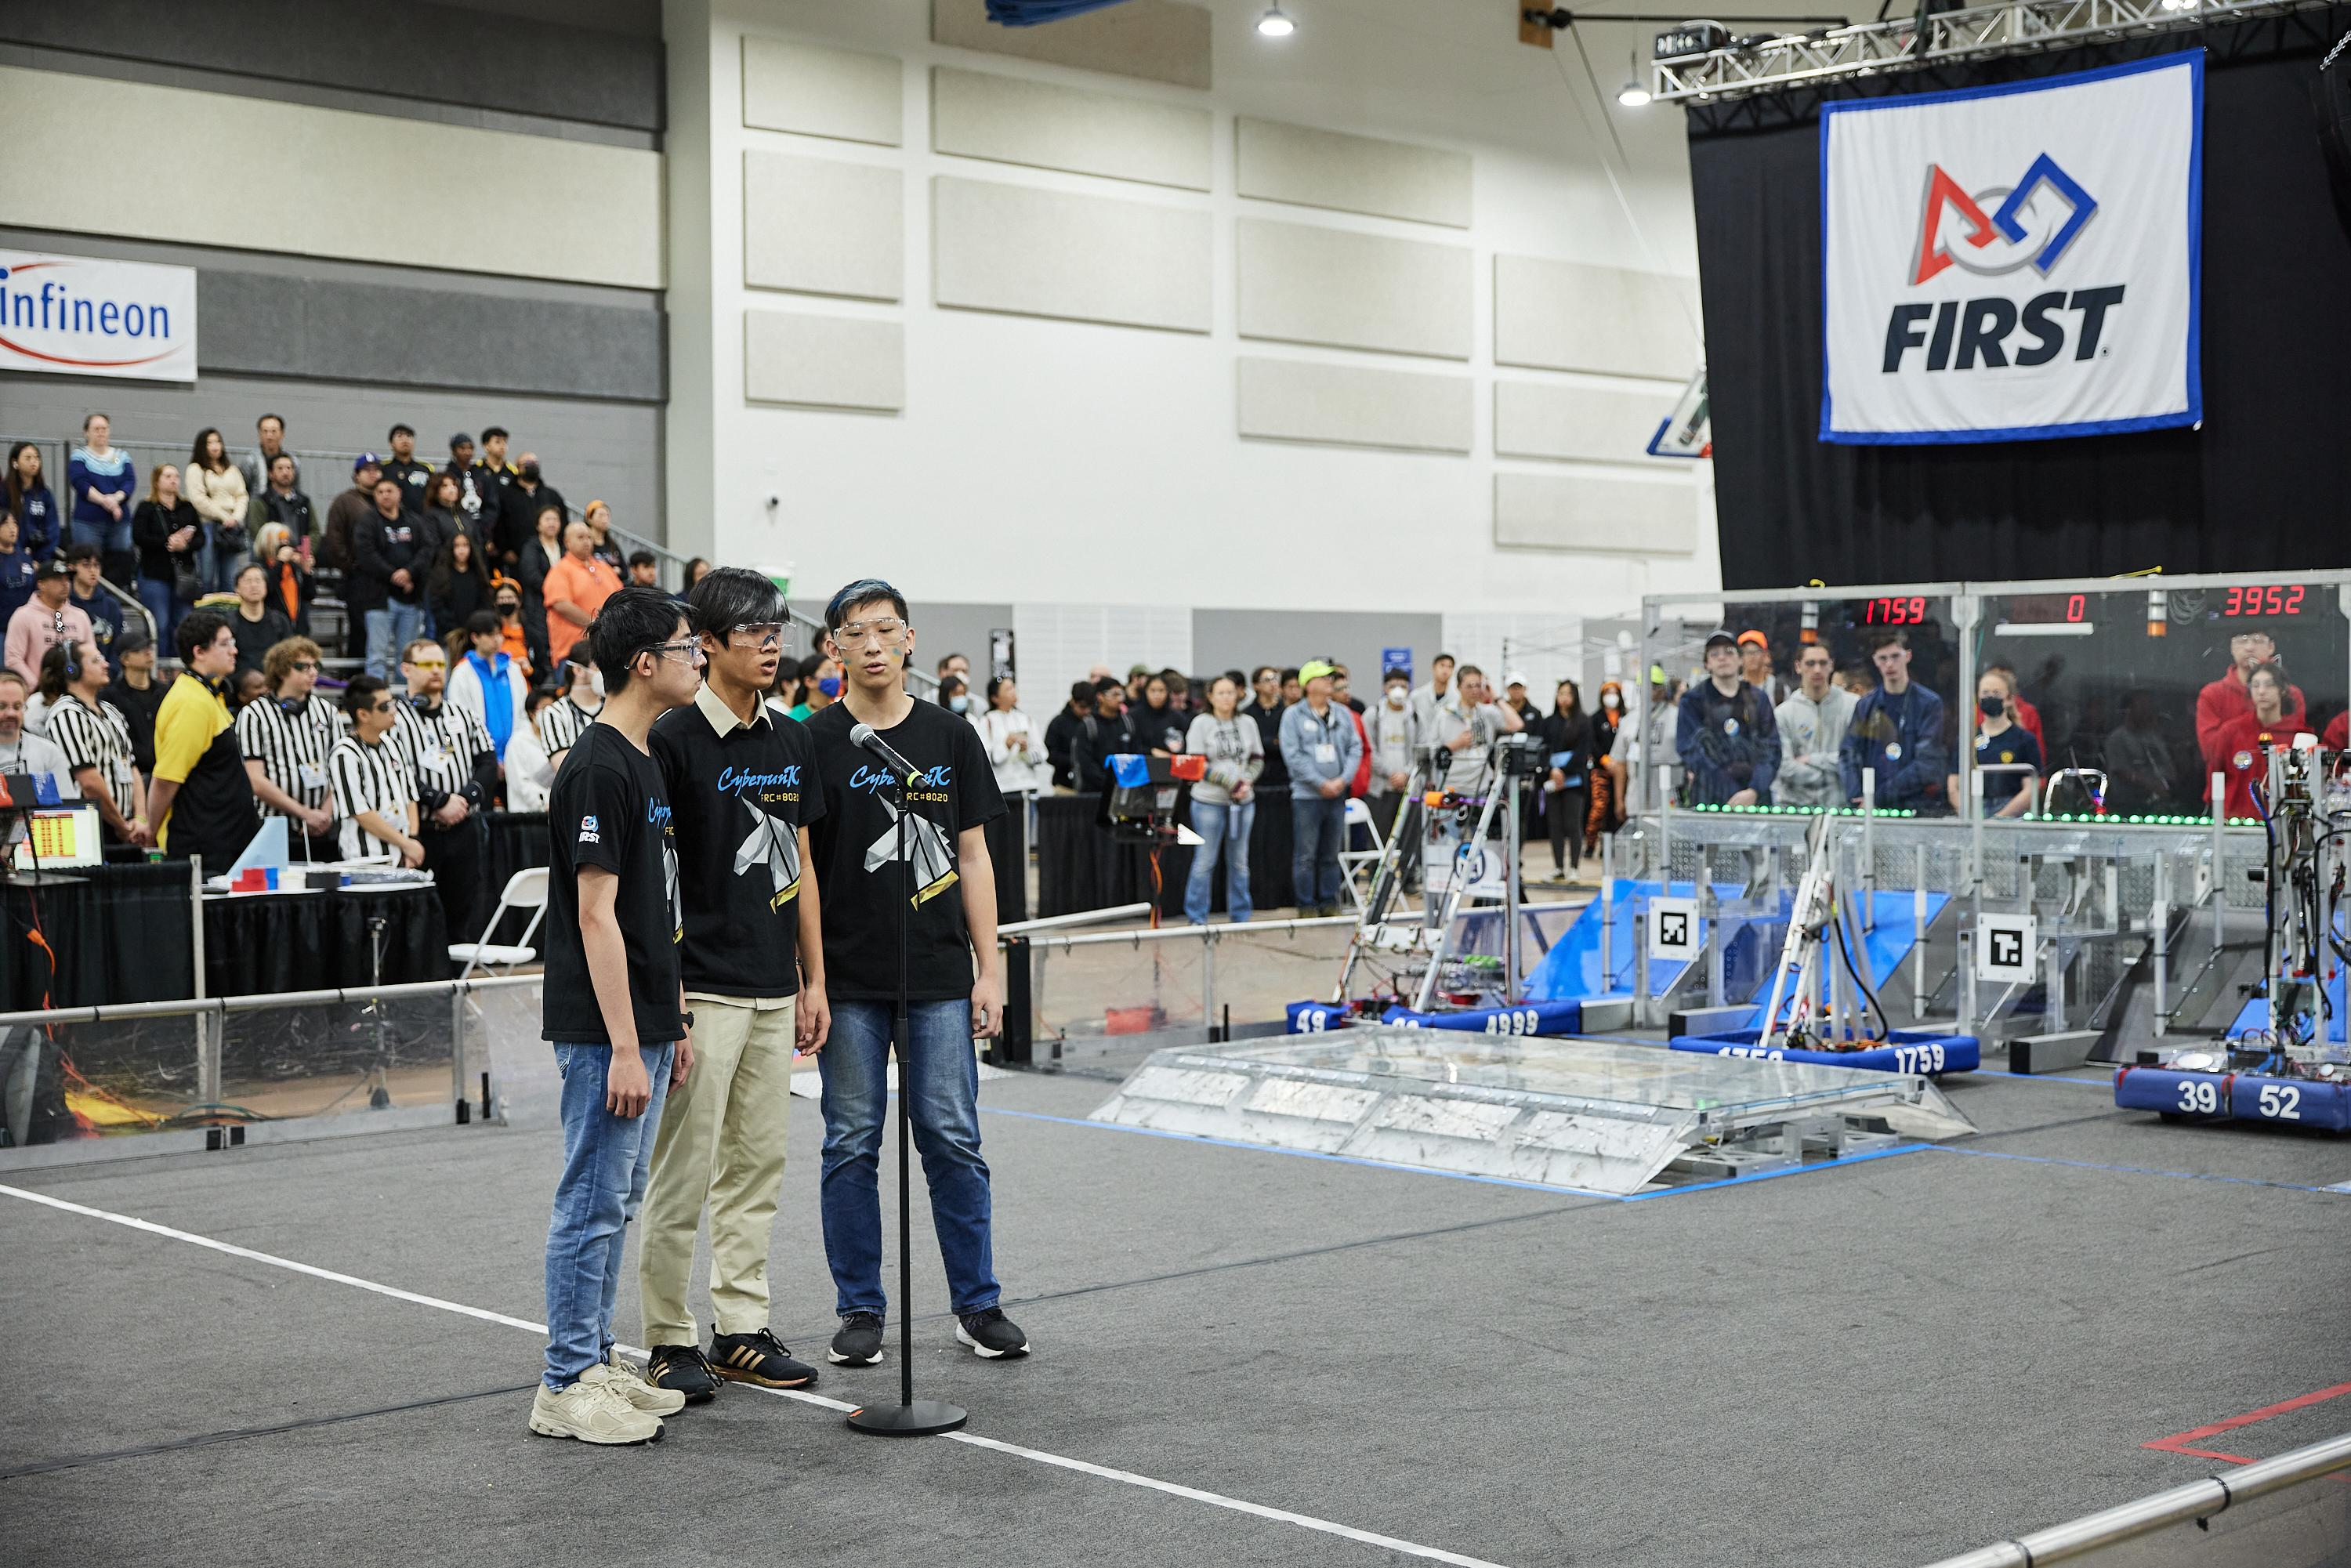robot: (1665, 810, 1989, 1083), (1282, 744, 1569, 1050), (2148, 905, 2327, 1127), (2087, 1388, 2243, 1489)
